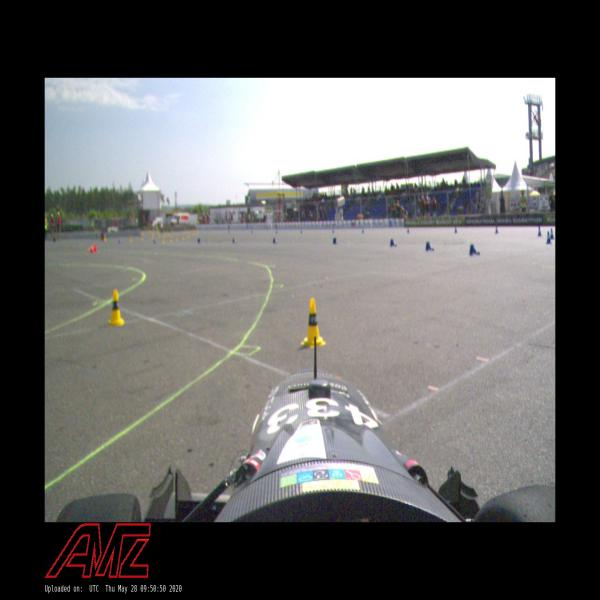blue_cone: (469, 243, 480, 255), (546, 231, 552, 245), (426, 241, 434, 251), (537, 225, 542, 237), (549, 227, 554, 239), (390, 239, 397, 247), (495, 224, 499, 233), (333, 236, 337, 244), (273, 238, 278, 244), (454, 225, 457, 233), (232, 238, 236, 242), (407, 226, 409, 233), (362, 226, 364, 232), (332, 226, 334, 232), (198, 237, 200, 243)
orange_cone: (85, 243, 96, 253)
yellow_cone: (300, 298, 326, 348), (108, 289, 124, 326)
